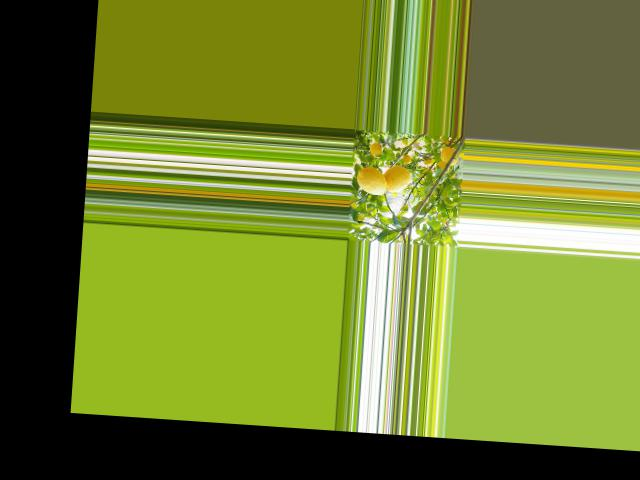lemon: (381, 160, 413, 196)
